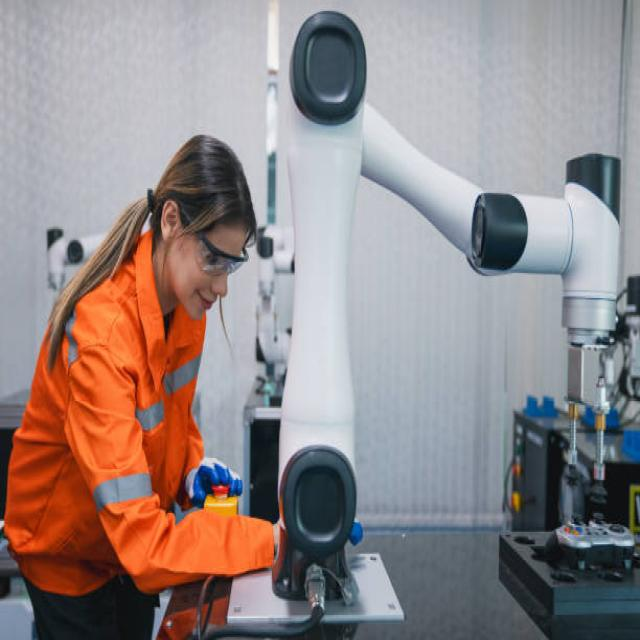Robotic-arm: (270, 8, 636, 596)
